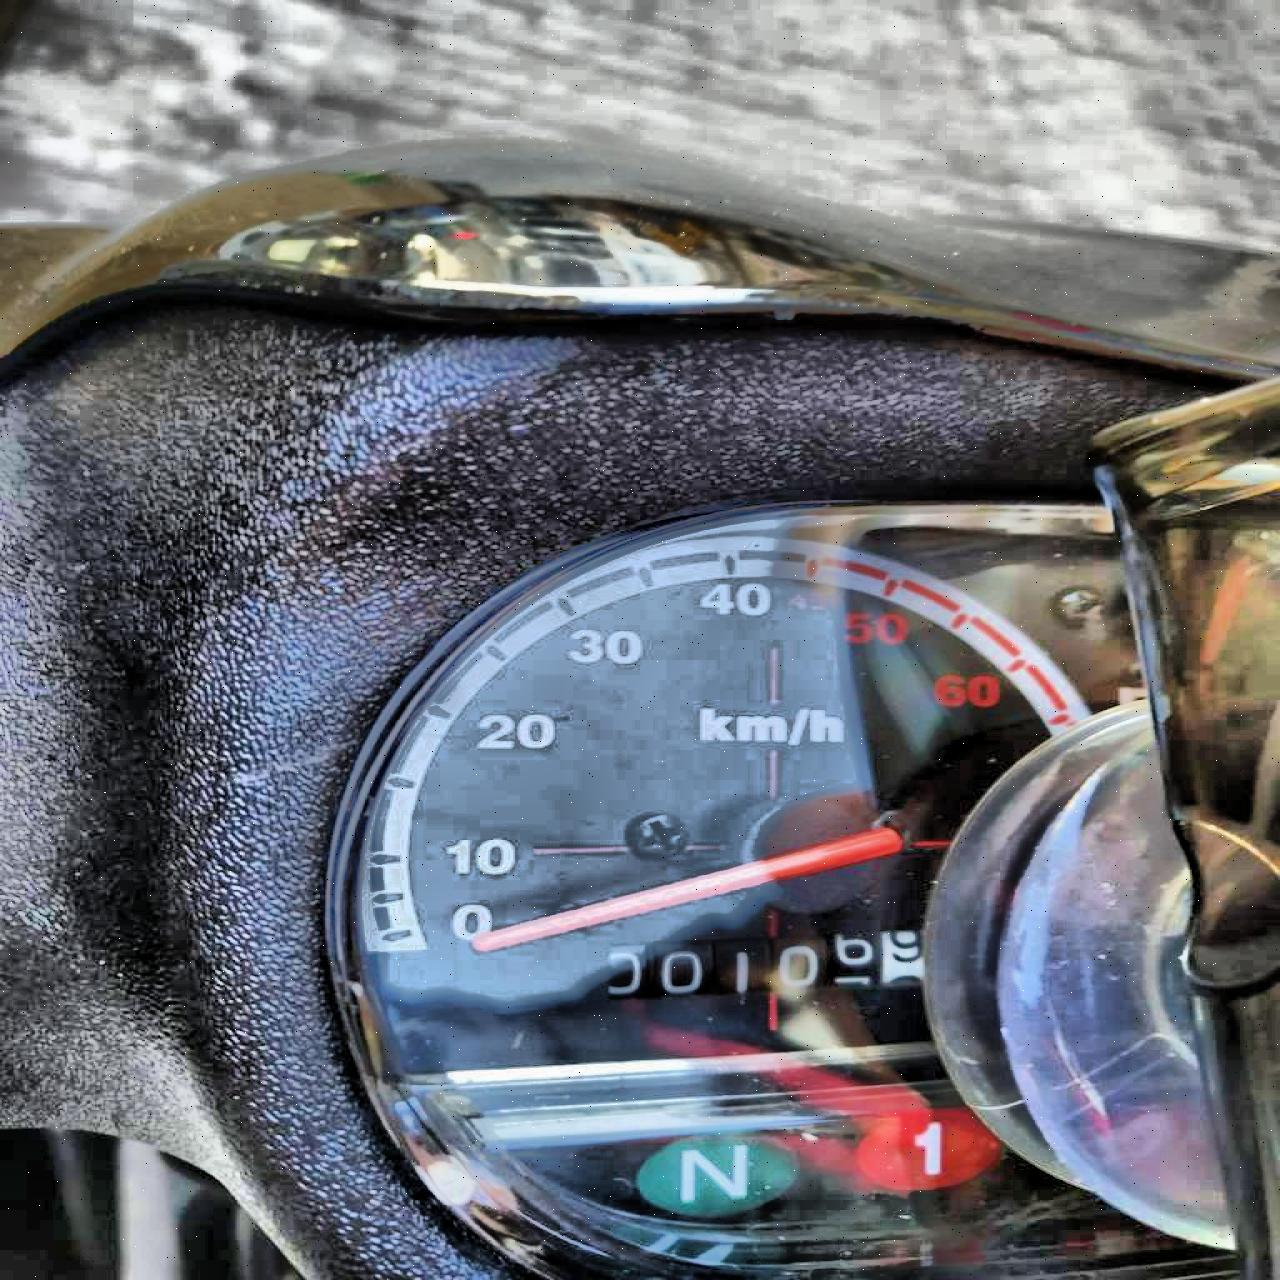0: (659, 948, 702, 993), (777, 944, 818, 986), (604, 949, 641, 995)
1: (731, 949, 750, 993)
6: (831, 922, 871, 965)
9: (888, 922, 924, 962)
odometer: (598, 927, 934, 1002)
